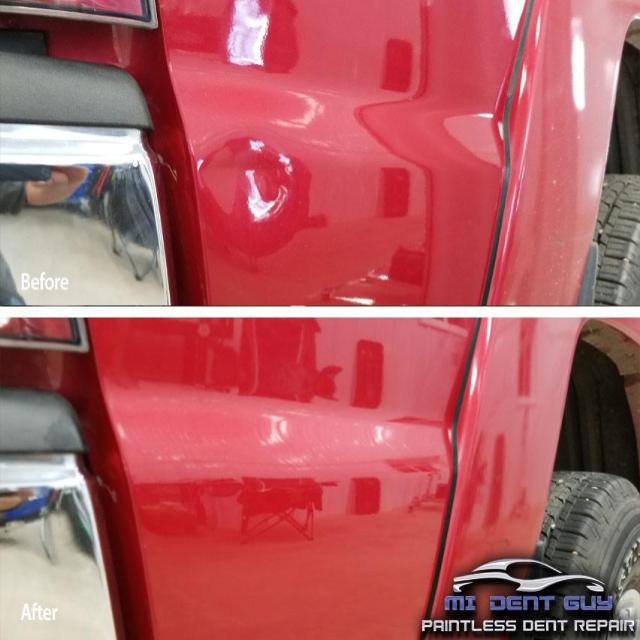dent: (193, 130, 310, 234)
